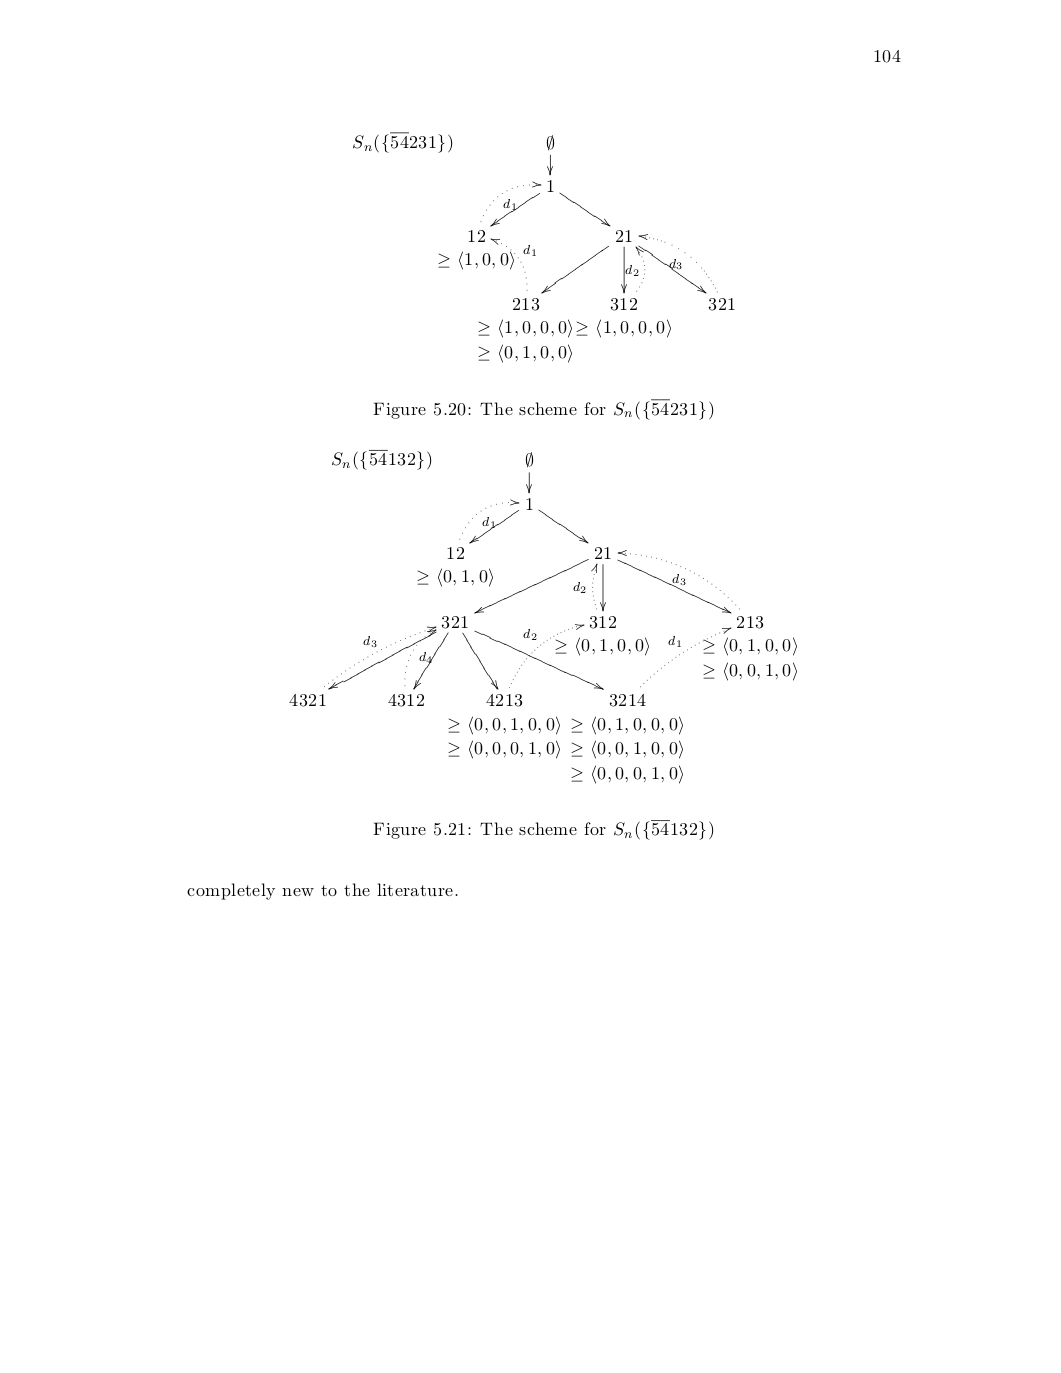figure: (289, 449, 796, 783), (353, 132, 734, 362)
